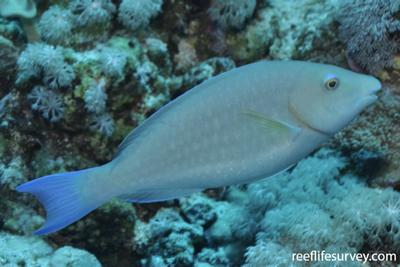Scaridae -Parrotfishes-: (12, 51, 381, 238)
